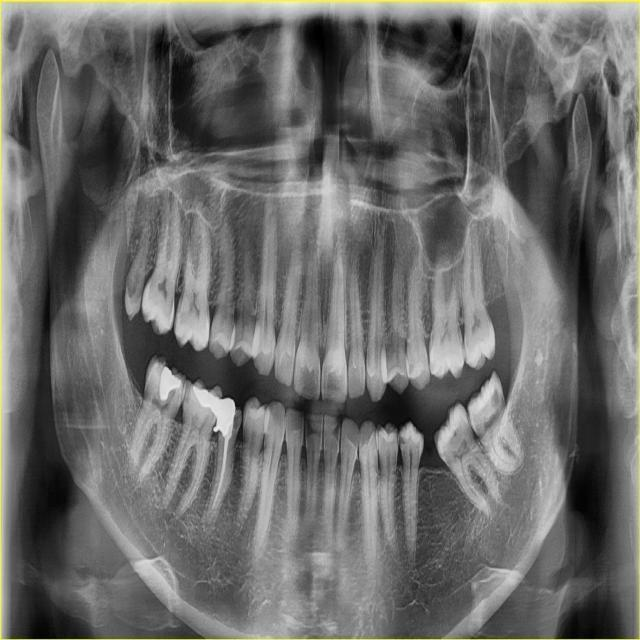Caries: (304, 416, 316, 441), (491, 387, 504, 409), (331, 419, 339, 442), (234, 412, 242, 431), (398, 433, 405, 447)
Filling: (213, 397, 235, 438), (193, 387, 219, 418), (159, 368, 182, 401)
Missing teeth: (420, 437, 454, 472)
Root Canal Treatment: (213, 439, 227, 508)
